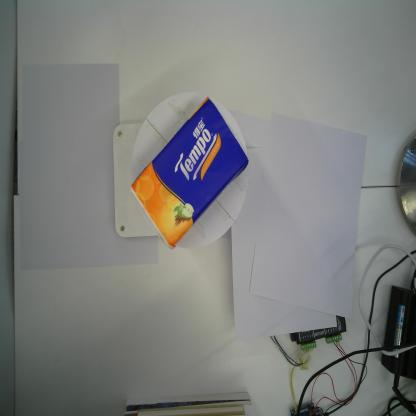Tissue: (127, 93, 253, 253)
